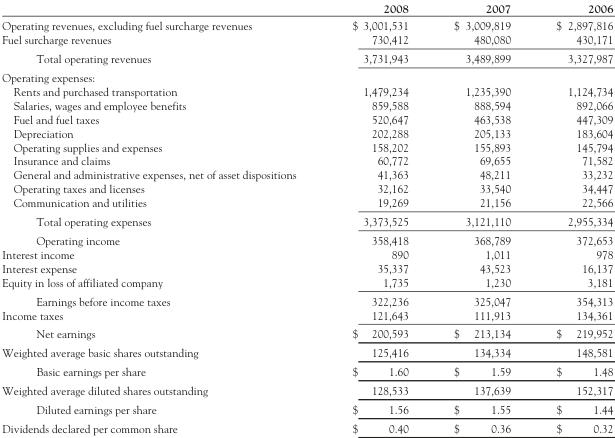table: (1, 0, 612, 434)
table column: (1, 0, 323, 434), (323, 0, 430, 434), (430, 0, 532, 434), (532, 0, 612, 434)
table column header: (1, 0, 612, 16)
table projected row header: (1, 67, 612, 83)
table row: (1, 48, 612, 67), (1, 211, 612, 230), (1, 323, 612, 342), (1, 342, 612, 361), (1, 361, 612, 380), (1, 380, 612, 399), (1, 399, 612, 418), (1, 194, 612, 211), (1, 290, 612, 307), (1, 0, 612, 16), (1, 16, 612, 32), (1, 32, 612, 48), (1, 67, 612, 83), (1, 230, 612, 246), (1, 274, 612, 290), (1, 307, 612, 323), (1, 418, 612, 434), (1, 83, 612, 97), (1, 97, 612, 111), (1, 111, 612, 125), (1, 125, 612, 139), (1, 139, 612, 153), (1, 153, 612, 167), (1, 167, 612, 181), (1, 246, 612, 260), (1, 260, 612, 274), (1, 181, 612, 194)
